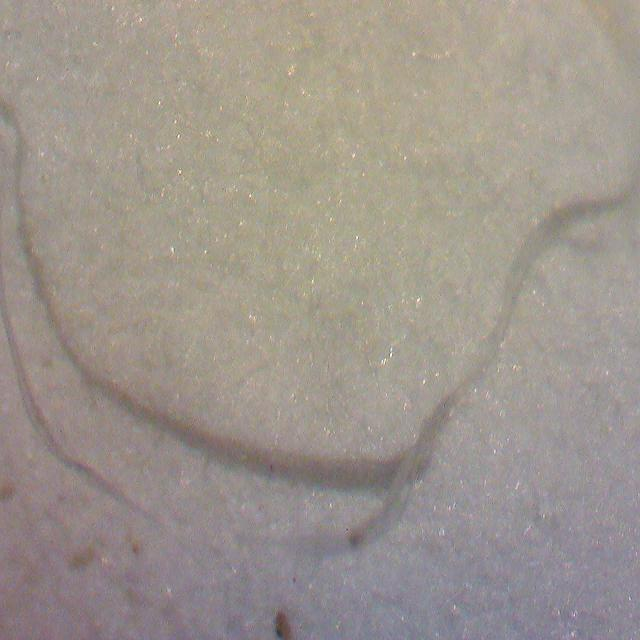microplastic: (0, 195, 633, 567)
